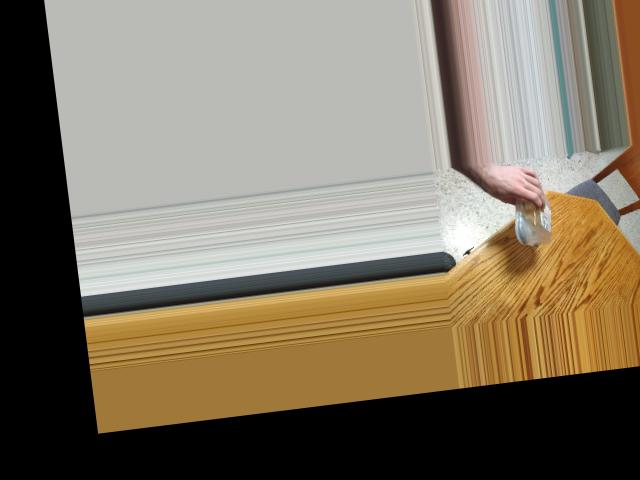cheese: (487, 187, 567, 250)
